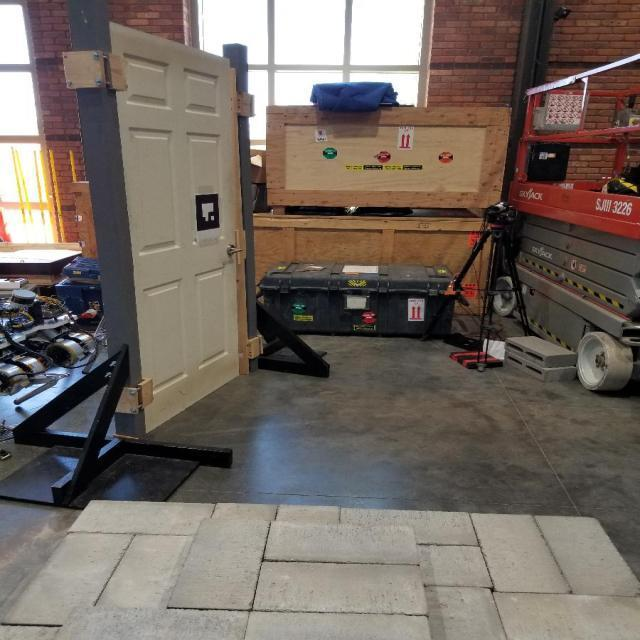door: (103, 18, 246, 436), (226, 245, 245, 260)
